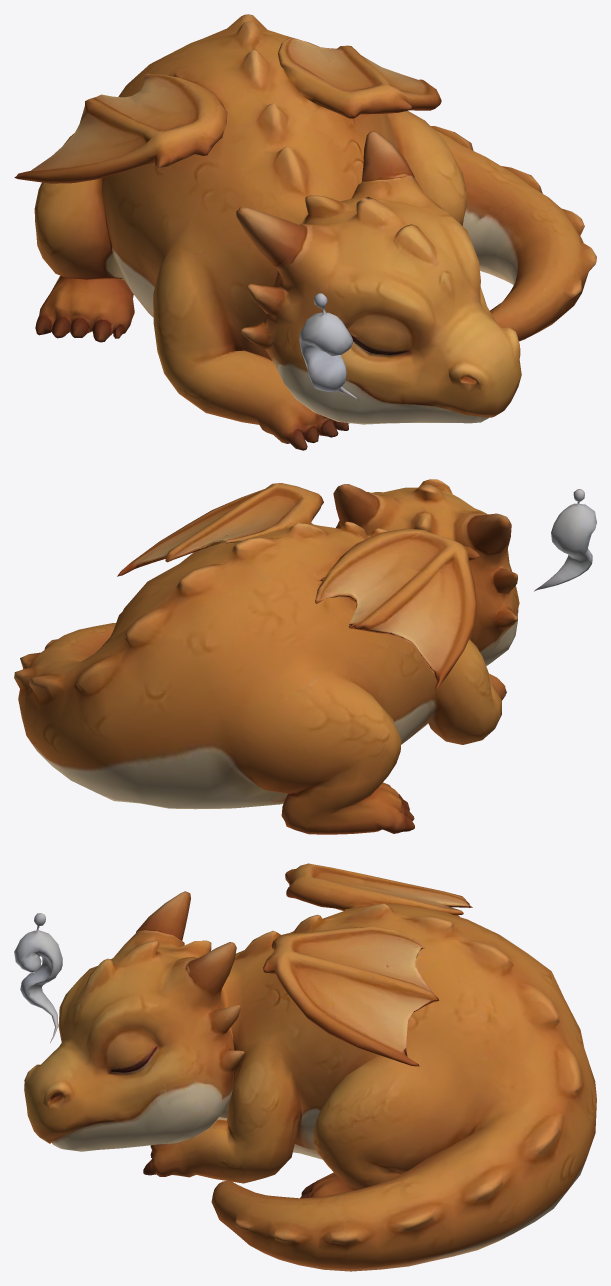
File: mon-dragon.glb
3 views of the same model, one above another, from view 1: azimuth 30°, elevation 25°; view 2: azimuth 150°, elevation 25°; view 3: azimuth 270°, elevation 25° (orthographic). The views are drawn at different scales.
Bounding box in the file's own units: 1.91 × 1 × 2.14.
1 material, 1 textured.
